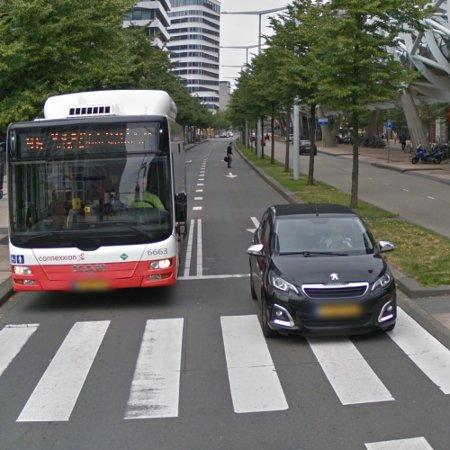crosswalks: (0, 308, 450, 423)
